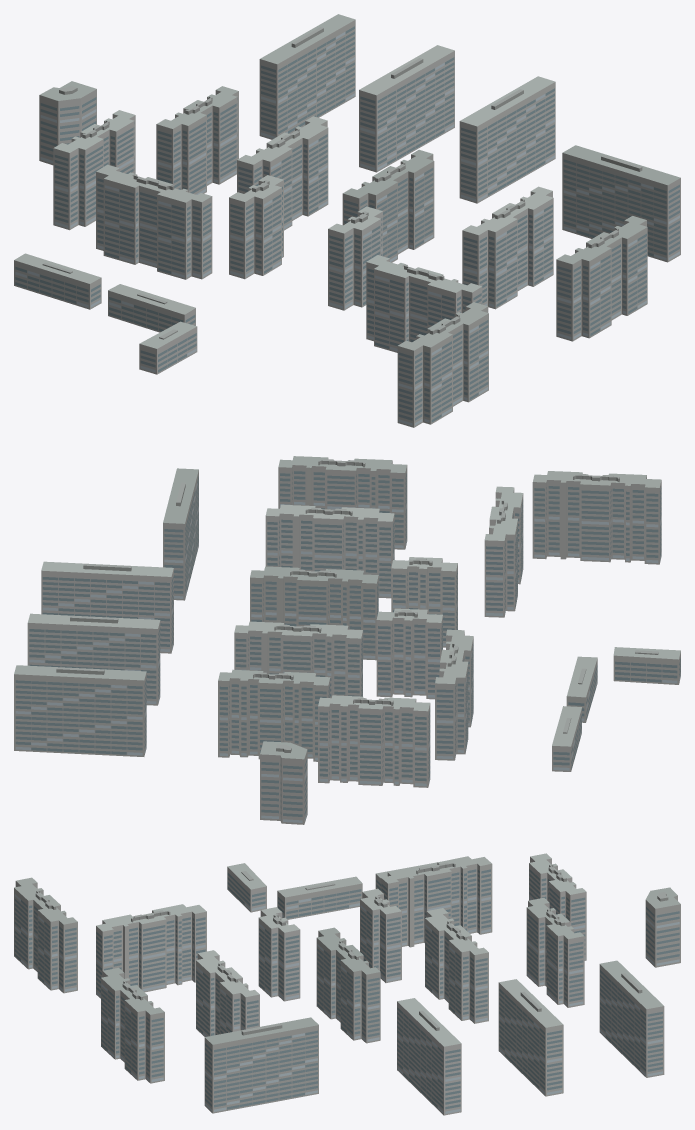
File: apt-a15807706.glb
The picture shows the model from 3 angles, top to bottom: view 1: azimuth 30°, elevation 25°; view 2: azimuth 150°, elevation 25°; view 3: azimuth 270°, elevation 25°; orthographic projection. The views are drawn at different scales.
Parts seen in each view (by area): view 1: apt-a15807706; view 2: apt-a15807706; view 3: apt-a15807706.
Boxes of the visible parts, bbox=[...] form: apt-a15807706: bbox=[14, 14, 680, 427]; apt-a15807706: bbox=[14, 456, 680, 824]; apt-a15807706: bbox=[14, 853, 680, 1115].
Size of the model in its own units: 333 by 47.81 by 402.
